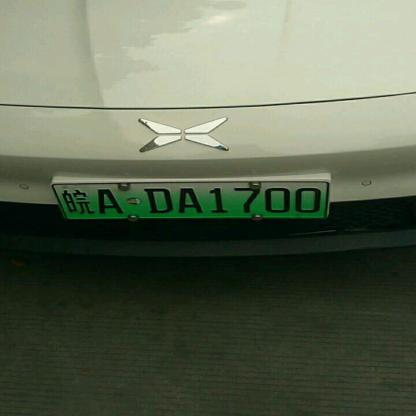lp: (53, 183, 65, 218)
